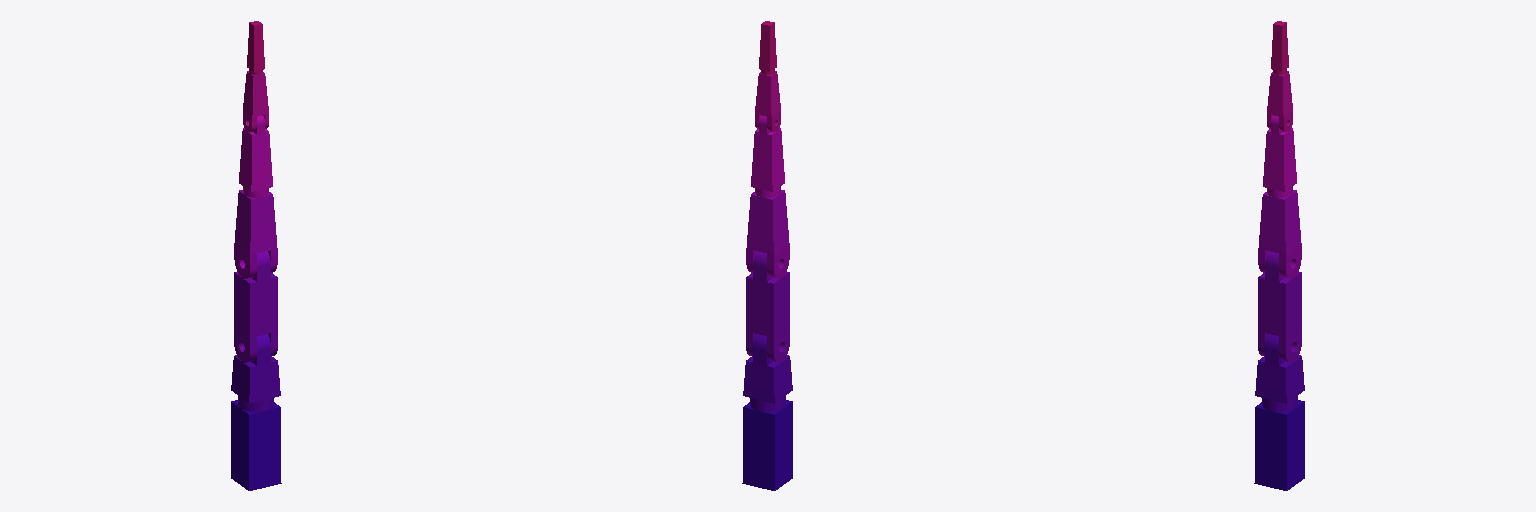
URDF robot description (robot_0):
<robot name="robot_0">
  <link name="link_0">
    <inertial>
      <origin xyz="2.935420835672152e-17 -4.802679704832299e-19 0.06928866854951908" rpy="0 0 0" />
      <mass value="1.2441267184811944" />
      <inertia ixx="0.002391387816043804" ixy="1.7382767274578743e-19" ixz="-2.190934733212692e-18" iyy="0.0023913878160438055" iyz="3.2790783402052577e-20" izz="0.0006651105339449277" />
    </inertial>
    <visual>
      <origin xyz="0 0 0" rpy="0 0 0" />
      <geometry>
        <mesh filename="dae/link_0.dae" />
      </geometry>
    </visual>
    <collision>
      <origin xyz="0 0 0" rpy="0 0 0" />
      <geometry>
        <mesh filename="dae/link_0.dae" />
      </geometry>
    </collision>
  </link>
  <joint name="joint_0" type="revolute">
    <parent link="link_0" />
    <child link="link_1" />
    <origin xyz="0.0 0.0 0.15060040806374903" rpy="0 0 0" />
    <axis xyz="0.0 1.2246467991473532e-16 -1.0" />
    <limit lower="-1.57" upper="1.57" effort="10" velocity="1" />
    <dynamics damping="0.07290968169421952" friction="0.2" />
  </joint>
  <transmission name="transmission_0">
    <type value="transmission_interface/SimpleTransmission" />
    <joint name="joint_0" />
    <hardwareInterface value="hardware_interface/JointPositionInterface" />
    <actuator name="actuator_0">
      <mechanicalReduction value="1.0" />
    </actuator>
  </transmission>
  <link name="link_1">
    <inertial>
      <origin xyz="-1.0304586194975333e-15 -7.003855091675599e-17 0.03649632580339787" rpy="0 0 0" />
      <mass value="0.6778197347156216" />
      <inertia ixx="0.0009707531515149197" ixy="-7.331693987146514e-20" ixz="4.654619343571686e-17" iyy="0.0005560754676991461" iyz="2.0964394118290346e-18" izz="0.00032401512289495905" />
    </inertial>
    <visual>
      <origin xyz="0 0 0" rpy="0 0 0" />
      <geometry>
        <mesh filename="dae/link_1.dae" />
      </geometry>
    </visual>
    <collision>
      <origin xyz="0 0 0" rpy="0 0 0" />
      <geometry>
        <mesh filename="dae/link_1.dae" />
      </geometry>
    </collision>
  </link>
  <joint name="joint_1" type="revolute">
    <parent link="link_1" />
    <child link="link_2" />
    <origin xyz="0.0 1.162242205380444e-18 0.08552209563037773" rpy="0 0 0" />
    <axis xyz="1.0 0.0 0.0" />
    <limit lower="-1.57" upper="1.57" effort="10" velocity="1" />
    <dynamics damping="0.13426751142939558" friction="0.2" />
  </joint>
  <transmission name="transmission_1">
    <type value="transmission_interface/SimpleTransmission" />
    <joint name="joint_1" />
    <hardwareInterface value="hardware_interface/JointPositionInterface" />
    <actuator name="actuator_1">
      <mechanicalReduction value="1.0" />
    </actuator>
  </transmission>
  <link name="link_2">
    <inertial>
      <origin xyz="-9.454935195314952e-16 6.108037849503882e-18 0.07064574143463034" rpy="0 0 0" />
      <mass value="0.8998486184421507" />
      <inertia ixx="0.002450410025006148" ixy="1.1786676215059429e-21" ixz="-3.683598093286623e-17" iyy="0.0025415968193686087" iyz="6.779348975766267e-18" izz="0.00022768372564307168" />
    </inertial>
    <visual>
      <origin xyz="0 0 0" rpy="0 0 0" />
      <geometry>
        <mesh filename="dae/link_2.dae" />
      </geometry>
    </visual>
    <collision>
      <origin xyz="0 0 0" rpy="0 0 0" />
      <geometry>
        <mesh filename="dae/link_2.dae" />
      </geometry>
    </collision>
  </link>
  <joint name="joint_2" type="revolute">
    <parent link="link_2" />
    <child link="link_3" />
    <origin xyz="0.0 -6.373270656782302e-33 0.1431541622462753" rpy="0 0 0" />
    <axis xyz="1.0 0.0 0.0" />
    <limit lower="-1.57" upper="1.57" effort="10" velocity="1" />
    <dynamics damping="0.36129024327934783" friction="0.2" />
  </joint>
  <transmission name="transmission_2">
    <type value="transmission_interface/SimpleTransmission" />
    <joint name="joint_2" />
    <hardwareInterface value="hardware_interface/JointPositionInterface" />
    <actuator name="actuator_2">
      <mechanicalReduction value="1.0" />
    </actuator>
  </transmission>
  <link name="link_3">
    <inertial>
      <origin xyz="7.79245596137439e-18 6.659957221217795e-17 0.05615296385188076" rpy="0 0 0" />
      <mass value="0.6437237111776174" />
      <inertia ixx="0.0011282756150812249" ixy="3.166862103497335e-20" ixz="-4.3179617403032587e-19" iyy="0.0011177511038167134" iyz="1.5092639910876324e-18" izz="0.00015923513977515933" />
    </inertial>
    <visual>
      <origin xyz="0 0 0" rpy="0 0 0" />
      <geometry>
        <mesh filename="dae/link_3.dae" />
      </geometry>
    </visual>
    <collision>
      <origin xyz="0 0 0" rpy="0 0 0" />
      <geometry>
        <mesh filename="dae/link_3.dae" />
      </geometry>
    </collision>
  </link>
  <joint name="joint_3" type="revolute">
    <parent link="link_3" />
    <child link="link_4" />
    <origin xyz="0.0 -5.098616525425841e-33 0.12997561673851582" rpy="0 0 0" />
    <axis xyz="0.0 1.2246467991473532e-16 -1.0" />
    <limit lower="-1.57" upper="1.57" effort="10" velocity="1" />
    <dynamics damping="0.4083890698506476" friction="0.2" />
  </joint>
  <transmission name="transmission_3">
    <type value="transmission_interface/SimpleTransmission" />
    <joint name="joint_3" />
    <hardwareInterface value="hardware_interface/JointPositionInterface" />
    <actuator name="actuator_3">
      <mechanicalReduction value="1.0" />
    </actuator>
  </transmission>
  <link name="link_4">
    <inertial>
      <origin xyz="-6.31267132798878e-16 -1.709182201042664e-17 0.04570710020266928" rpy="0 0 0" />
      <mass value="0.3656712598357016" />
      <inertia ixx="0.0004243802447299108" ixy="-3.2850481827708216e-20" ixz="2.316240507038334e-17" iyy="0.0004447538809162785" iyz="3.5148783360764176e-19" izz="7.504438429257137e-05" />
    </inertial>
    <visual>
      <origin xyz="0 0 0" rpy="0 0 0" />
      <geometry>
        <mesh filename="dae/link_4.dae" />
      </geometry>
    </visual>
    <collision>
      <origin xyz="0 0 0" rpy="0 0 0" />
      <geometry>
        <mesh filename="dae/link_4.dae" />
      </geometry>
    </collision>
  </link>
  <joint name="joint_4" type="revolute">
    <parent link="link_4" />
    <child link="link_5" />
    <origin xyz="0.0 8.056619694786502e-19 0.10988266374810882" rpy="0 0 0" />
    <axis xyz="1.0 0.0 0.0" />
    <limit lower="-1.57" upper="1.57" effort="10" velocity="1" />
    <dynamics damping="0.26617715346015997" friction="0.2" />
  </joint>
  <transmission name="transmission_4">
    <type value="transmission_interface/SimpleTransmission" />
    <joint name="joint_4" />
    <hardwareInterface value="hardware_interface/JointPositionInterface" />
    <actuator name="actuator_4">
      <mechanicalReduction value="1.0" />
    </actuator>
  </transmission>
  <link name="link_5">
    <inertial>
      <origin xyz="-9.150777910453627e-16 4.0019058529047627e-17 0.037896529412225786" rpy="0 0 0" />
      <mass value="0.15804786199723994" />
      <inertia ixx="7.747546112842418e-05" ixy="3.0709804157554985e-21" ixz="-5.521858485375528e-18" iyy="0.0001621315751058447" iyz="1.8027621429461086e-19" izz="1.3984268271607422e-05" />
    </inertial>
    <visual>
      <origin xyz="0 0 0" rpy="0 0 0" />
      <geometry>
        <mesh filename="dae/link_5.dae" />
      </geometry>
    </visual>
    <collision>
      <origin xyz="0 0 0" rpy="0 0 0" />
      <geometry>
        <mesh filename="dae/link_5.dae" />
      </geometry>
    </collision>
  </link>
  <joint name="joint_5" type="revolute">
    <parent link="link_5" />
    <child link="link_6" />
    <origin xyz="0.0 -4.673731814973688e-33 0.09089072652707299" rpy="0 0 0" />
    <axis xyz="0.0 1.2246467991473532e-16 -1.0" />
    <limit lower="-1.57" upper="1.57" effort="10" velocity="1" />
    <dynamics damping="0.17088776830439378" friction="0.2" />
  </joint>
  <transmission name="transmission_5">
    <type value="transmission_interface/SimpleTransmission" />
    <joint name="joint_5" />
    <hardwareInterface value="hardware_interface/JointPositionInterface" />
    <actuator name="actuator_5">
      <mechanicalReduction value="1.0" />
    </actuator>
  </transmission>
  <link name="link_6">
    <inertial>
      <origin xyz="1.8608915585214185e-17 -2.0018838509845662e-19 0.032624310187138066" rpy="0 0 0" />
      <mass value="0.07231778993442711" />
      <inertia ixx="2.450414785063401e-05" ixy="-1.4594917489777585e-21" ixz="3.5494230100931366e-20" iyy="3.357665043176272e-05" iyz="2.444935709678387e-22" izz="4.411776538406563e-06" />
    </inertial>
    <visual>
      <origin xyz="0 0 0" rpy="0 0 0" />
      <geometry>
        <mesh filename="dae/link_6.dae" />
      </geometry>
    </visual>
    <collision>
      <origin xyz="0 0 0" rpy="0 0 0" />
      <geometry>
        <mesh filename="dae/link_6.dae" />
      </geometry>
    </collision>
  </link>
</robot>

--- Render facts (derived) ---
Views: 3 orthographic renders of the robot side by side, from view 1: azimuth 30°, elevation 25°; view 2: azimuth 150°, elevation 25°; view 3: azimuth 330°, elevation 25°.
Robot: robot_0 — 7 links, 6 joints (6 revolute); root link link_0; default pose: every joint at zero.
Visible links, largest first — view 1: link_0, link_2, link_3, link_1, link_4, link_5, link_6; view 2: link_0, link_2, link_3, link_1, link_4, link_5, link_6; view 3: link_0, link_2, link_3, link_1, link_4, link_5, link_6.
Boxes of the visible links, x1,y1,x2,y2 form: link_0: (231,400,281,490); link_2: (234,251,277,362); link_3: (234,190,277,278); link_1: (231,334,280,411); link_4: (239,115,272,197); link_5: (243,71,268,132); link_6: (247,21,264,74); link_0: (742,400,792,490); link_2: (746,251,789,362); link_3: (746,190,789,278); link_1: (743,334,792,411); link_4: (751,115,784,197); link_5: (755,71,780,132); link_6: (759,21,776,74); link_0: (1254,400,1304,490); link_2: (1258,251,1301,362); link_3: (1258,190,1301,278); link_1: (1255,334,1304,411); link_4: (1263,115,1296,197); link_5: (1267,71,1292,132); link_6: (1271,21,1288,74).
Bounding box of the posed robot: 0.0582 × 0.0582 × 0.7875 m (x, y, z).
Meshes: 7 distinct files referenced, 7 mesh visuals loaded (7 Collada DAE).